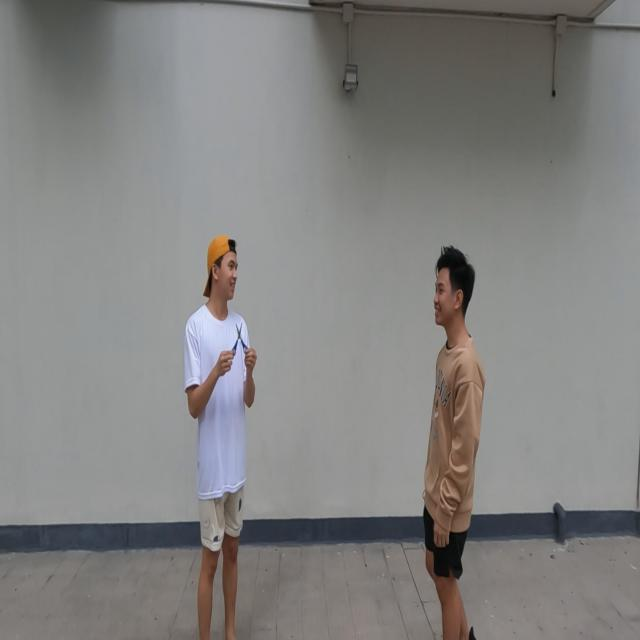scissor: (230, 322, 251, 359)
